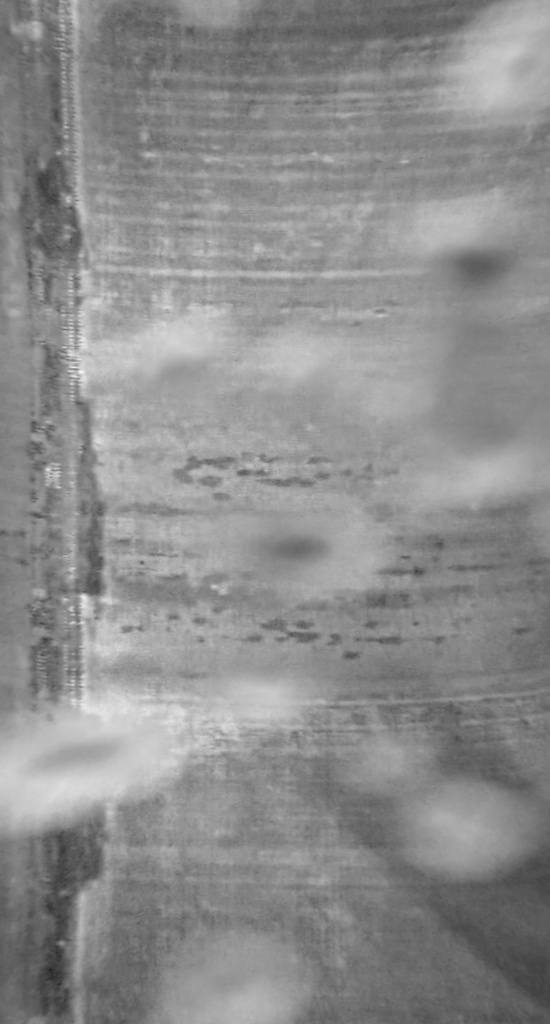splice: (4, 1, 101, 1021)
